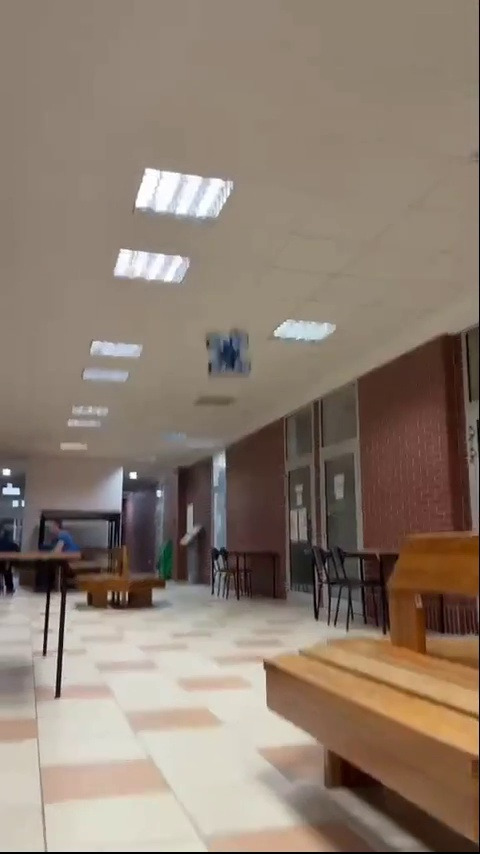drone: (200, 330, 251, 381)
no vest: (41, 518, 74, 562)
